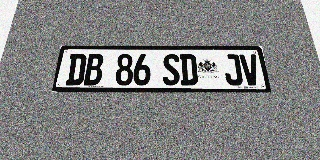6: (133, 54, 151, 85)
8: (115, 54, 134, 85)
B: (83, 54, 104, 85)
D: (65, 54, 87, 85), (180, 54, 198, 85)
J: (223, 54, 243, 85)
S: (163, 54, 180, 85)
V: (239, 54, 261, 85)
